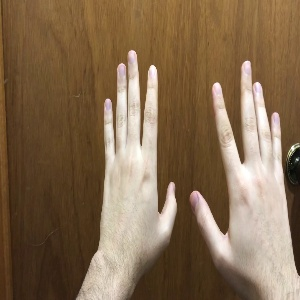hand: (189, 60, 296, 272), (99, 49, 177, 253)
